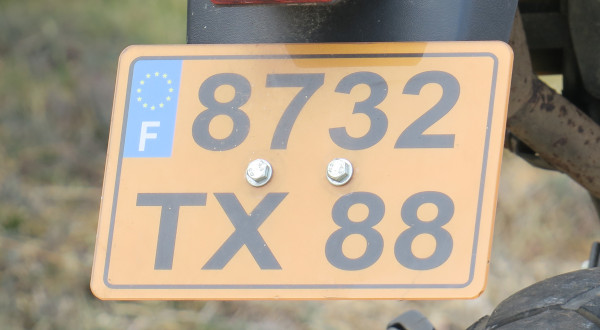license_plate: (90, 41, 513, 301)
